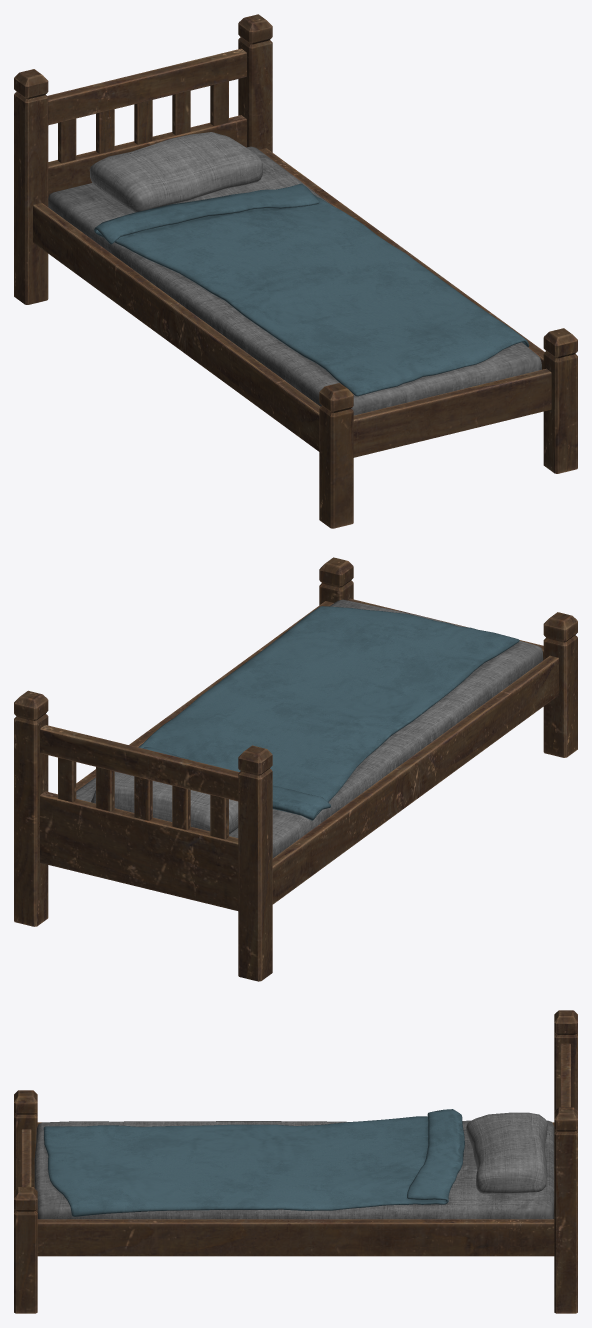
File: old_bed.glb
3 views of the same model, one above another, from view 1: azimuth 30°, elevation 25°; view 2: azimuth 150°, elevation 25°; view 3: azimuth 270°, elevation 25° (orthographic). The views are drawn at different scales.
Visible parts, largest first — view 1: Bed; view 2: Bed; view 3: Bed.
Boxes of the visible parts, x1,y1,x2,y2 form: Bed: (14, 14, 577, 528); Bed: (14, 557, 577, 981); Bed: (14, 1010, 577, 1313).
Size of the model in its own units: 0.7864 by 0.6819 by 1.76.
1 material, 1 textured.
